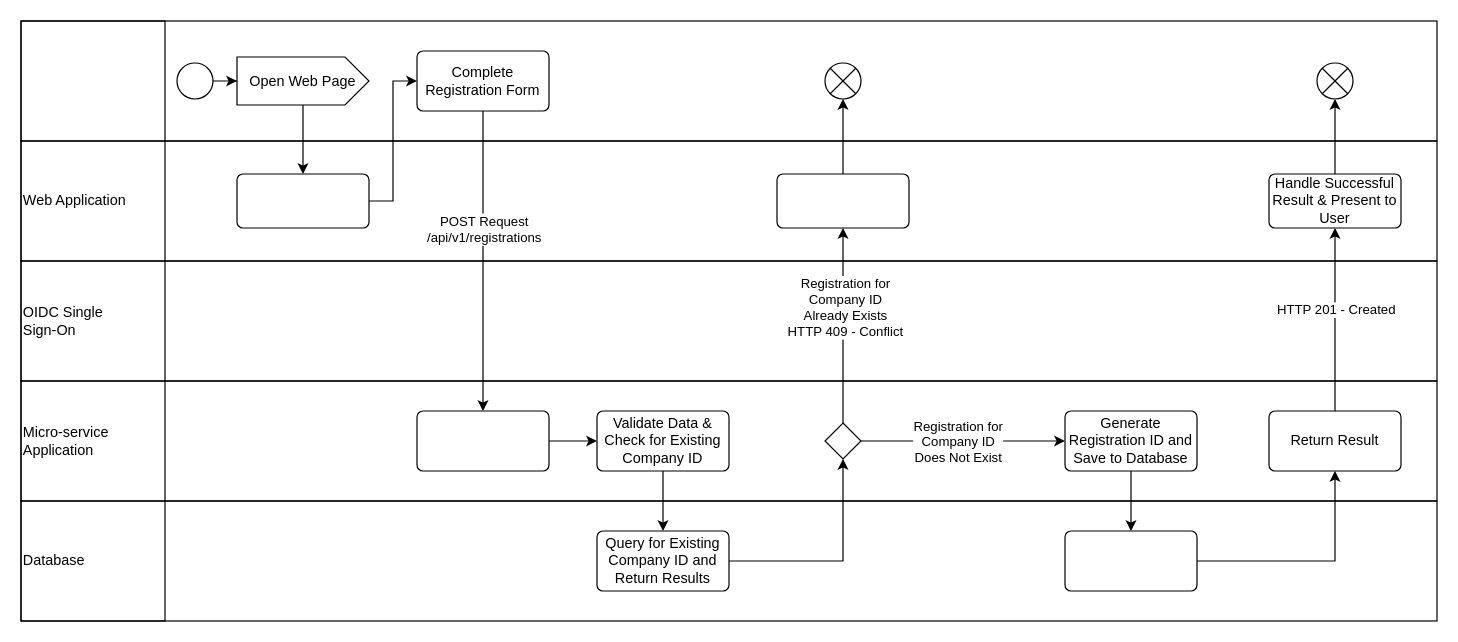
This 1458x642 diagram has some shape labels left out. Here are the shapes that lost their labels. From the top down, the box of each, then its label:
(20, 20, 1437, 141): User
(236, 173, 369, 228): Present Registration Form
(776, 173, 909, 228): Handle Conflict & Present to User
(416, 410, 549, 471): Receive Form Data
(1064, 530, 1197, 591): Save Registration to Table
